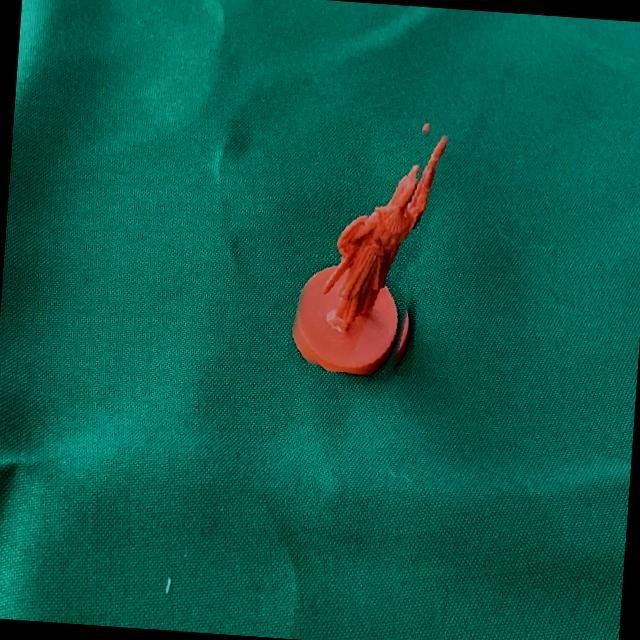amon_follower: (291, 133, 447, 376)
